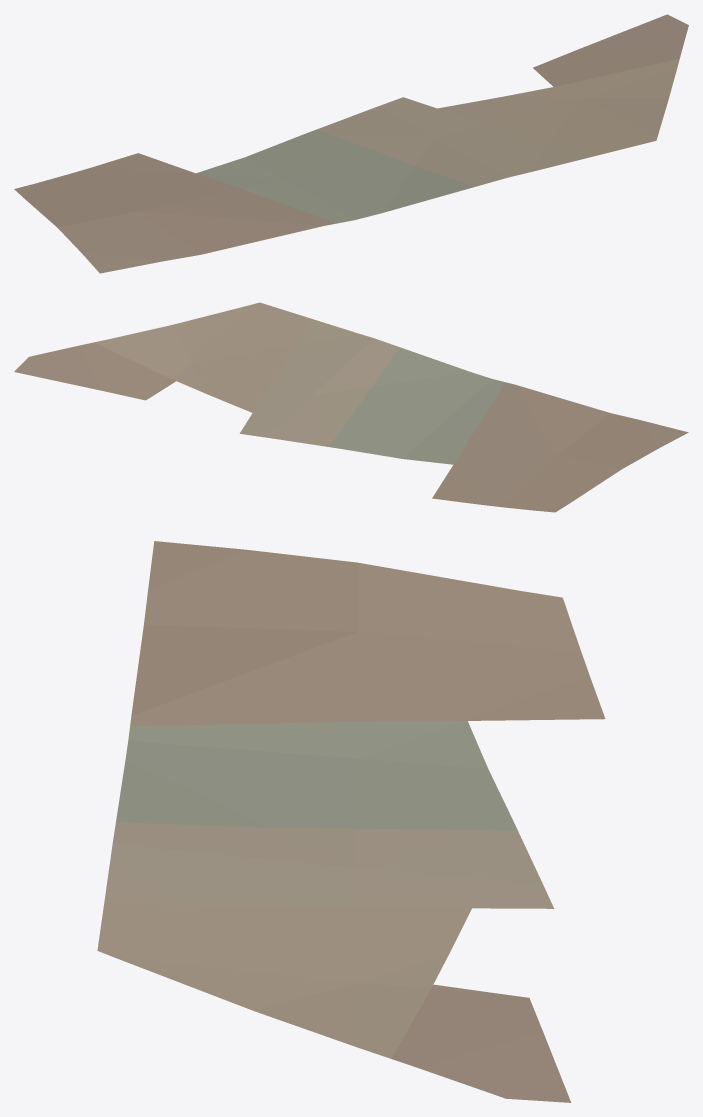
Rendered from farm_-10_9_soil.glb.
3 renders of one model, top to bottom at view 1: azimuth 30°, elevation 25°; view 2: azimuth 150°, elevation 25°; view 3: azimuth 270°, elevation 25°, orthographic. The views are drawn at different scales.
Visible parts, largest first — view 1: geometry_0; view 2: geometry_0; view 3: geometry_0.
Part boxes in pixels (left/top/right/bottom): geometry_0: left=14, top=14, right=688, bottom=273; geometry_0: left=14, top=302, right=688, bottom=512; geometry_0: left=97, top=541, right=605, bottom=1102.
Bounding box in the file's own units: 375 × 18.82 × 144.
